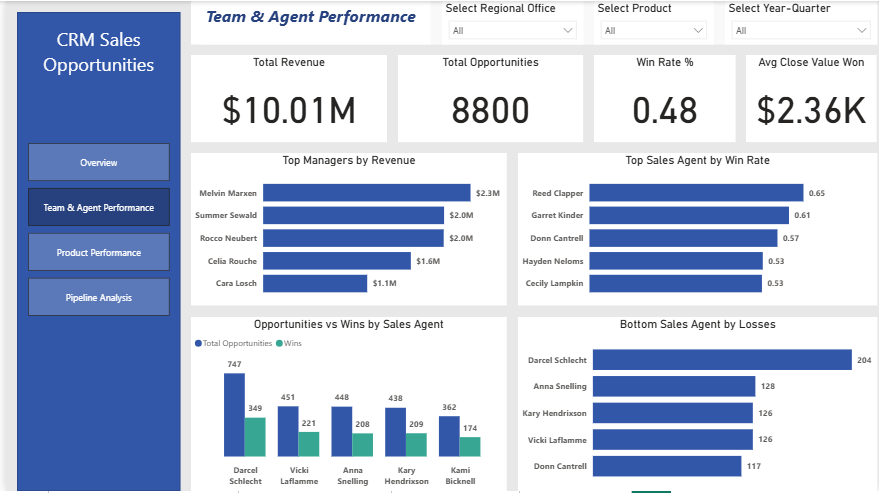

This screenshot's page, from the dashboard's own definition file:
{"tool":"powerbi","page":{"name":"Team & Agent Performance","canvas":[1280,720],"ordinal":1},"visuals":[{"type":"shape","box":[288,0,992,64],"z":0},{"type":"barChart","title":"Top Managers by Revenue","fields":{"Category":["sales_teams.manager"],"Y":["_Measures.Total Revenue"]},"box":[272,224,464,224],"z":1000},{"type":"clusteredBarChart","title":"Top Sales Agent by Win Rate","fields":{"Category":["sales_teams.sales_agent"],"Y":["_Measures.Win Rate %"]},"box":[752,224,528,224],"z":2000},{"type":"shape","box":[16,16,240,704],"z":3000},{"type":"pageNavigator","box":[32,208,208,256],"z":4000},{"type":"slicer","title":"Select Regional Office","fields":{"Values":["sales_teams.regional_office"]},"box":[640,0,208,64],"z":5000},{"type":"slicer","title":"Select Product","fields":{"Values":["products.product"]},"box":[864,0,176,64],"z":6000},{"type":"slicer","title":"Select Year-Quarter","fields":{"Values":["Date Table.Year-Quarter"]},"box":[1056,0,224,64],"z":7000},{"type":"card","title":"Total Revenue","fields":{"Values":["_Measures.Total Pipeline Value"]},"box":[272,80,288,128],"z":8000},{"type":"card","title":"Total Opportunities","fields":{"Values":["_Measures.Opportunities Count"]},"box":[576,80,272,128],"z":9000},{"type":"card","title":"Win Rate %","fields":{"Values":["_Measures.Win Rate %"]},"box":[864,80,208,128],"z":10000},{"type":"card","title":"Avg Close Value Won","fields":{"Values":["_Measures.Avg Close Value Won"]},"box":[1088,80,192,128],"z":11000},{"type":"clusteredBarChart","title":"Bottom Sales Agent by Losses","fields":{"Category":["sales_teams.sales_agent"],"Y":["_Measures.Losses"]},"box":[752,464,528,256],"z":12000},{"type":"textbox","box":[272,0,352,64],"z":13000},{"type":"textbox","box":[16,32,240,112],"z":14000},{"type":"clusteredColumnChart","title":"Opportunities vs Wins by Sales Agent","fields":{"Y":["_Measures.Total Opportunities","_Measures.Wins"],"Category":["sales_teams.sales_agent"]},"box":[272,464,464,256],"z":15000}]}

Visuals, with their boxes in screenshot pixels (x1, y1, x2, y2), scaled from the page's 1280x720 canvas onto the 879x493 screenshot:
shape: box=[198, 0, 878, 44]
"Top Managers by Revenue" barChart: box=[187, 153, 505, 307]
"Top Sales Agent by Win Rate" clusteredBarChart: box=[516, 153, 878, 307]
shape: box=[11, 11, 176, 492]
pageNavigator: box=[22, 142, 165, 318]
"Select Regional Office" slicer: box=[440, 0, 582, 44]
"Select Product" slicer: box=[593, 0, 714, 44]
"Select Year-Quarter" slicer: box=[725, 0, 878, 44]
"Total Revenue" card: box=[187, 55, 385, 142]
"Total Opportunities" card: box=[396, 55, 582, 142]
"Win Rate %" card: box=[593, 55, 736, 142]
"Avg Close Value Won" card: box=[747, 55, 878, 142]
"Bottom Sales Agent by Losses" clusteredBarChart: box=[516, 318, 878, 492]
textbox: box=[187, 0, 429, 44]
textbox: box=[11, 22, 176, 99]
"Opportunities vs Wins by Sales Agent" clusteredColumnChart: box=[187, 318, 505, 492]
